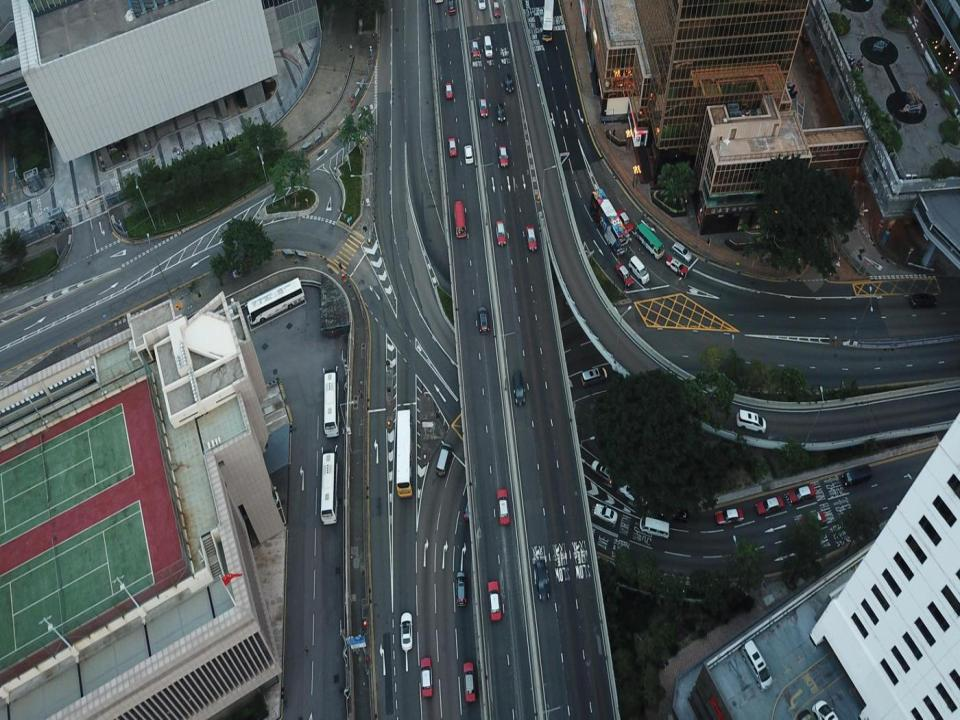bus: (246, 276, 306, 325), (590, 189, 629, 256), (396, 408, 413, 499), (319, 450, 338, 524), (634, 222, 664, 259), (324, 370, 340, 439), (542, 0, 554, 41), (454, 200, 466, 239)
car: (487, 580, 502, 622), (535, 559, 550, 601), (462, 487, 479, 523), (592, 460, 615, 484), (659, 503, 688, 522), (756, 496, 785, 515), (400, 612, 413, 652), (463, 662, 476, 702), (714, 508, 744, 525), (788, 485, 815, 503), (666, 256, 688, 278), (620, 482, 644, 502), (593, 504, 617, 524), (798, 511, 826, 528), (420, 658, 432, 697), (497, 489, 510, 525), (910, 292, 937, 309), (616, 263, 634, 286), (617, 209, 634, 232), (546, 377, 572, 392), (456, 571, 466, 607), (525, 224, 538, 251), (479, 306, 490, 335), (496, 220, 506, 247), (499, 144, 508, 168), (448, 137, 458, 156), (497, 102, 506, 122), (464, 145, 473, 164), (480, 97, 488, 118), (445, 81, 453, 100), (506, 73, 514, 92), (472, 40, 480, 58), (493, 1, 500, 17), (478, 0, 486, 9)
van: (741, 639, 772, 690), (736, 409, 766, 434), (242, 490, 279, 509), (842, 465, 872, 486), (640, 517, 669, 538), (628, 256, 649, 284), (435, 443, 452, 476), (812, 700, 839, 719), (581, 367, 607, 386), (513, 370, 526, 407), (671, 242, 691, 261), (484, 34, 492, 56), (448, 0, 455, 15)
